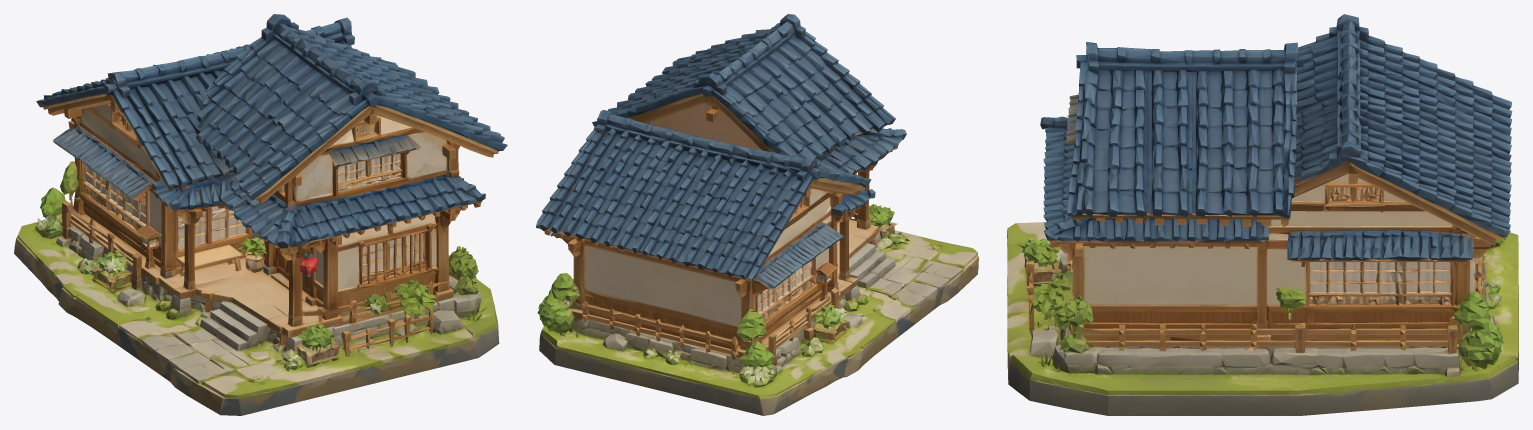
Rendered from source.glb.
The picture shows the model from 3 angles, left to right: view 1: azimuth 30°, elevation 25°; view 2: azimuth 150°, elevation 25°; view 3: azimuth 270°, elevation 25°; orthographic projection. The views are drawn at different scales.
Parts seen in each view (by area): view 1: model; view 2: model; view 3: model.
Part boxes in pixels (left/top/right/bottom): model: left=14, top=14, right=507, bottom=415; model: left=536, top=14, right=978, bottom=415; model: left=1007, top=14, right=1518, bottom=415.
Bounding box in the file's own units: 1.55 × 1.23 × 1.9.
1 material, 1 textured.
